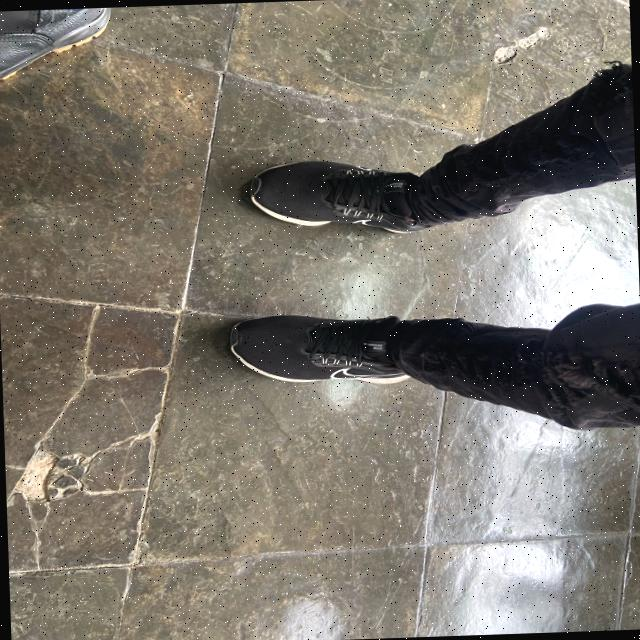SEM BOTA: (224, 311, 453, 381), (246, 159, 454, 235)
